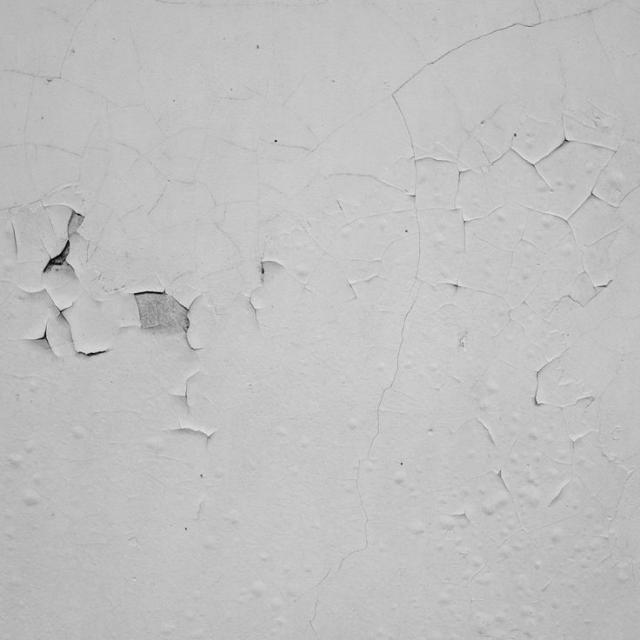peeling paint: (1, 0, 639, 546)
